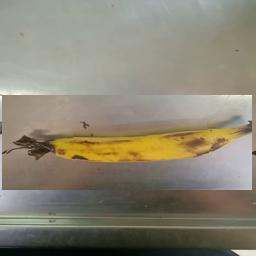Banana Semirotten: (2, 95, 252, 190)
